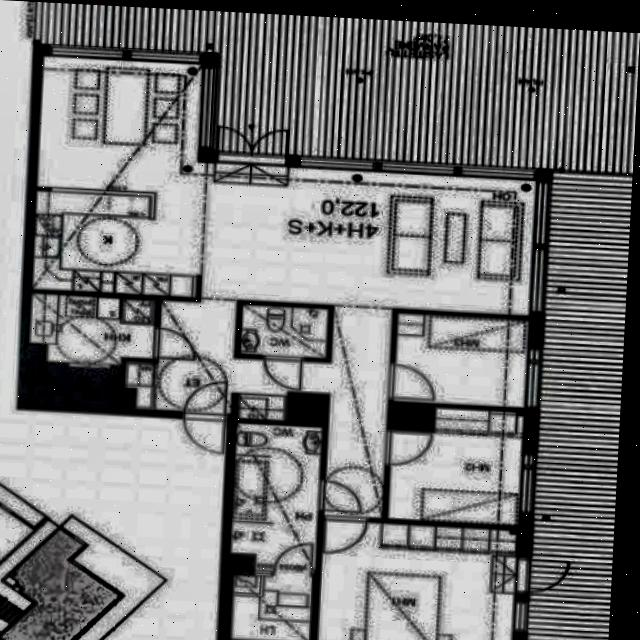room: (318, 521, 517, 640), (387, 406, 525, 527), (230, 422, 324, 568), (393, 314, 529, 408), (230, 573, 312, 640), (241, 306, 328, 358)
